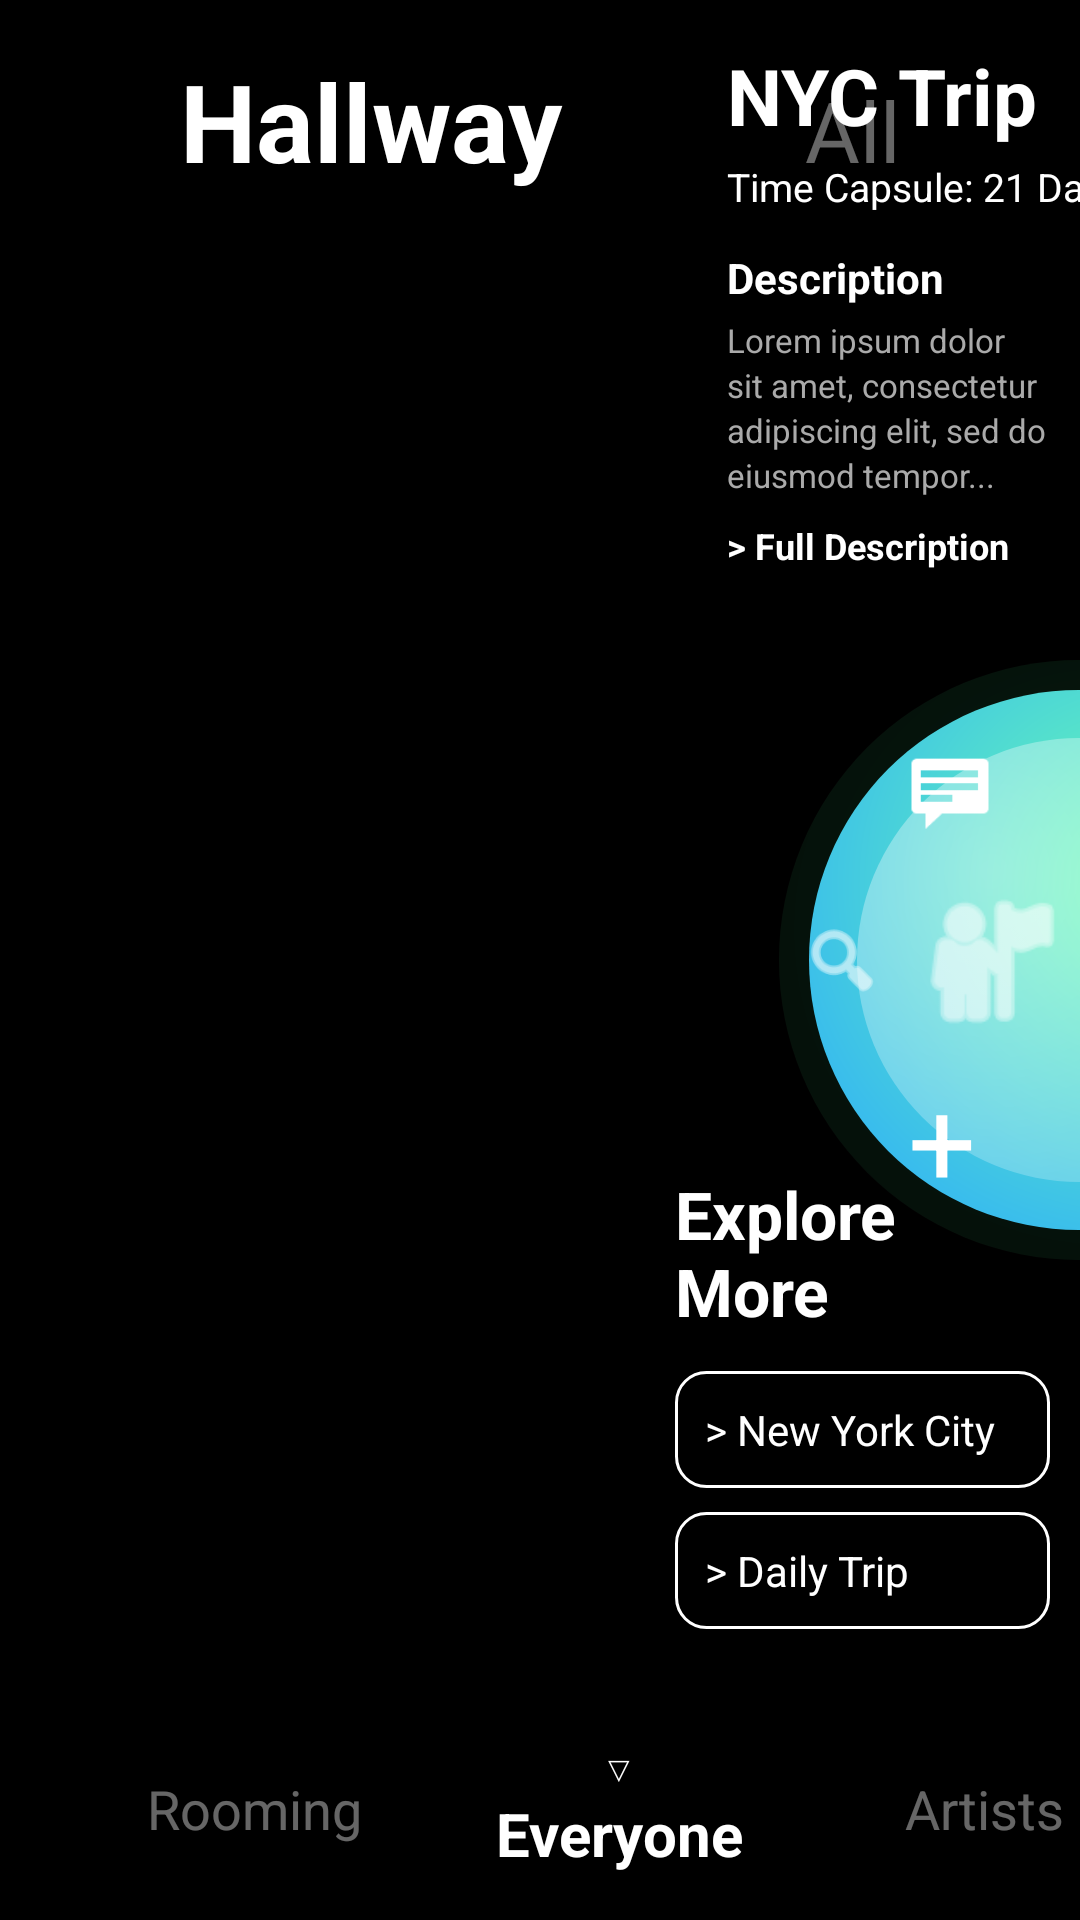

Named icons in this screenshot (1080*1920) and their centers, (x=x, y=y):
chat: (x=950, y=789)
myplaces: (x=993, y=961)
search: (x=842, y=960)
